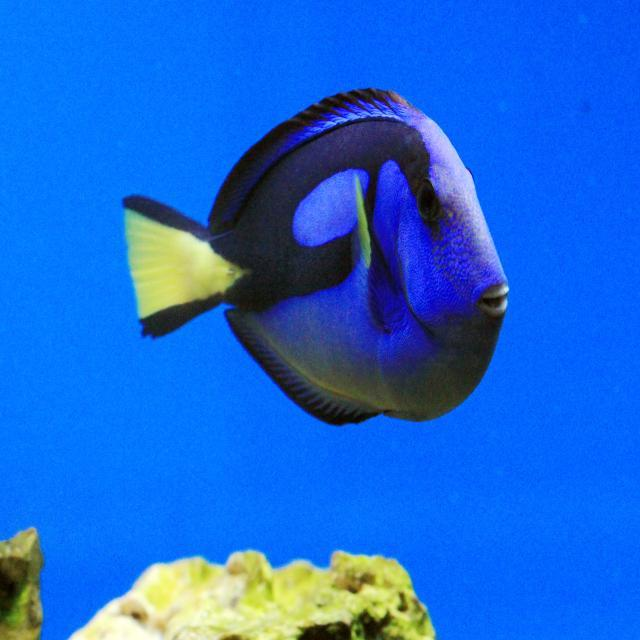BlueTang: (126, 90, 517, 422)
